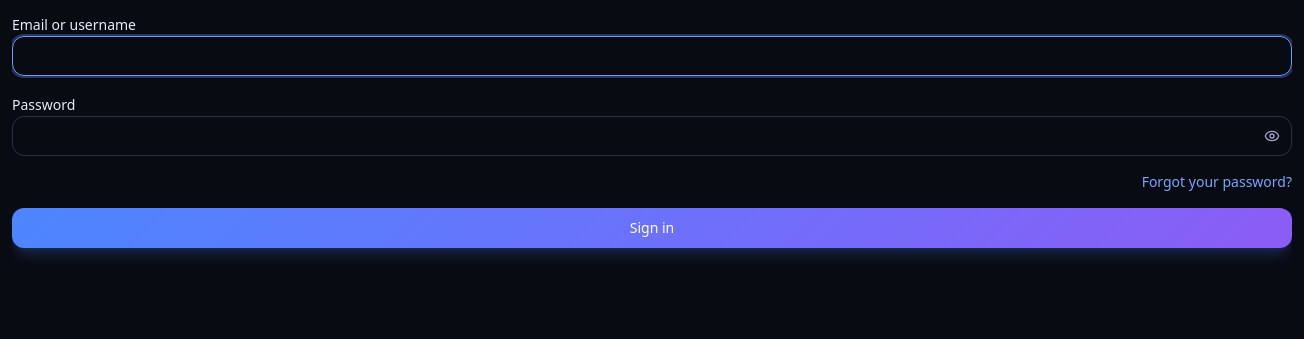
LoginForm › tells the user how long to wait when rate limited
Type "ada" into the field labelled "Email or username".
click(652, 56); type("ada")  # box [12,36,1292,76]
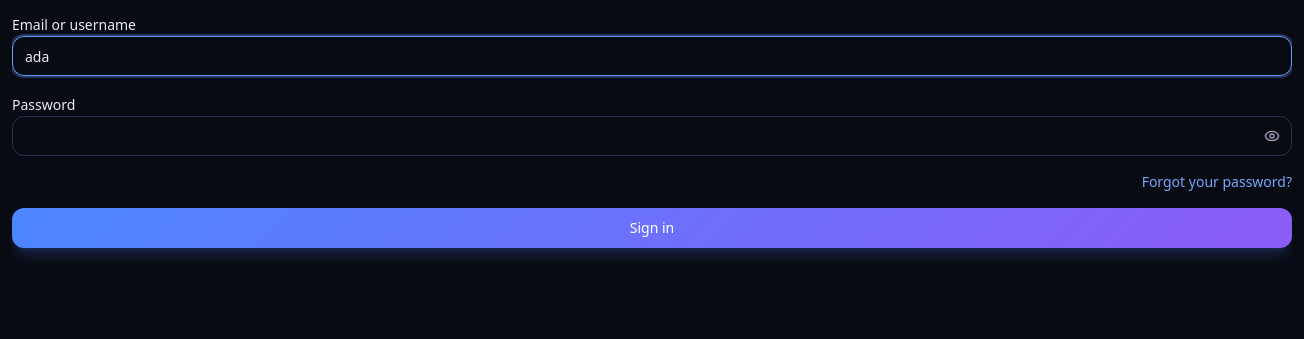
Type "x" into the password field labelled "Password".
click(652, 136); type("x")  # box [12,116,1292,156]
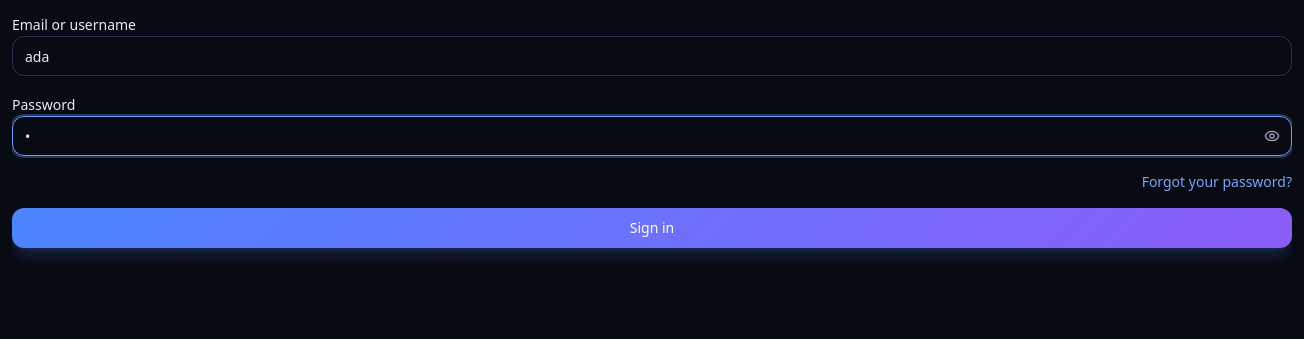
Click the button "Sign in".
click(652, 228)  # box [12,208,1292,248]
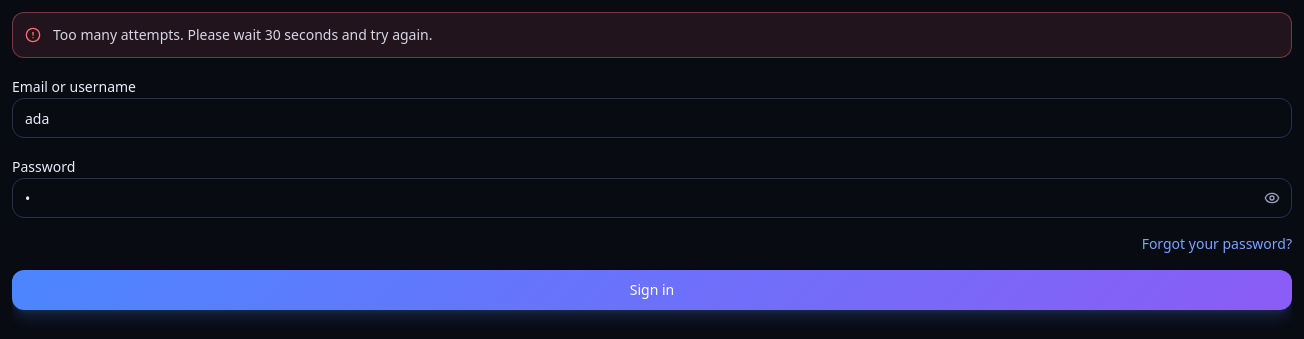
Check: the message shows "30 seconds", box [53,25,432,44]
